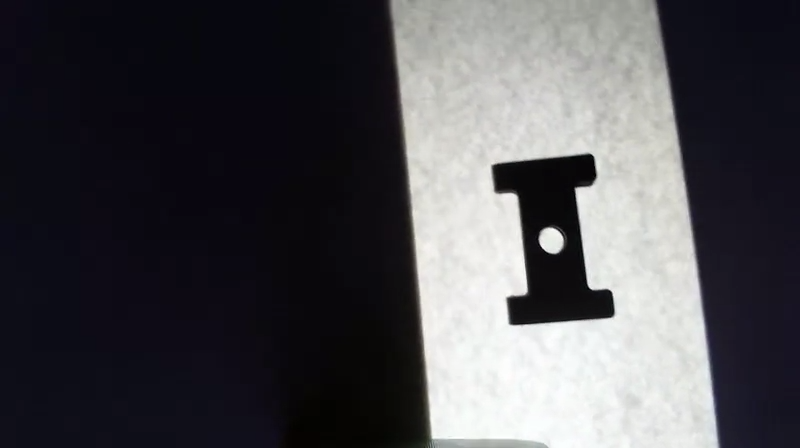O002: (484, 150, 621, 330)
